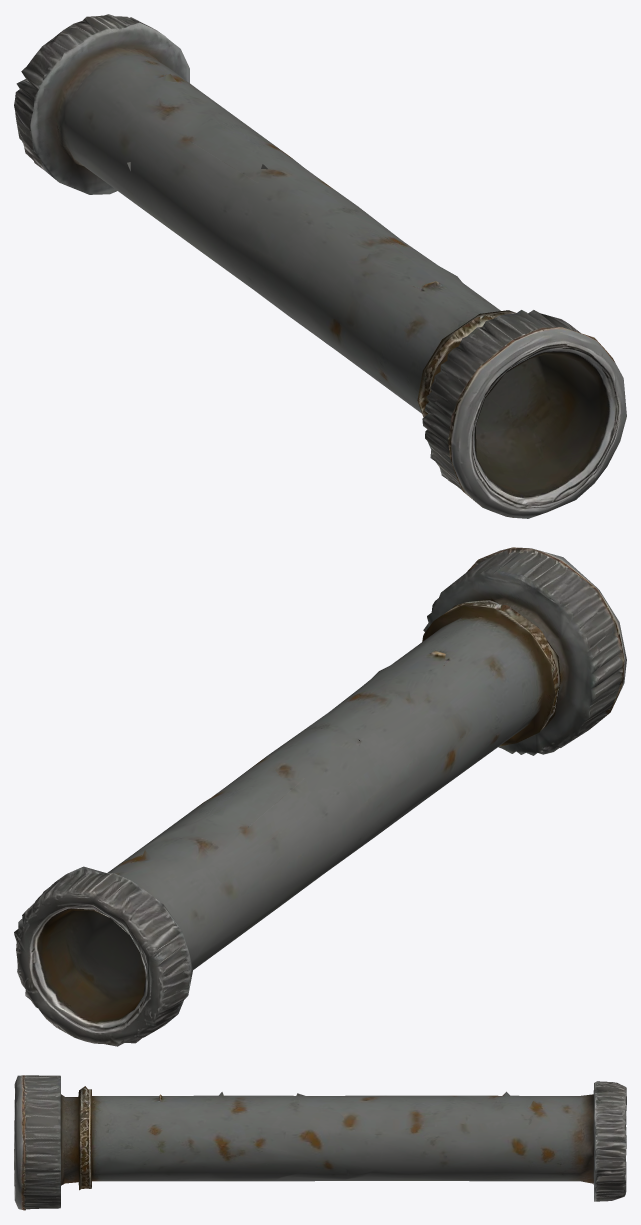
Rendered from metal_pipe.glb.
The picture shows the model from 3 angles, top to bottom: view 1: azimuth 30°, elevation 25°; view 2: azimuth 150°, elevation 25°; view 3: azimuth 270°, elevation 25°; orthographic projection. The views are drawn at different scales.
Parts seen in each view (by area): view 1: metal_pipe; view 2: metal_pipe; view 3: metal_pipe.
Part boxes in pixels (x1,y1,x2,y2): metal_pipe: (14,14,626,518); metal_pipe: (14,547,626,1046); metal_pipe: (14,1075,626,1210).
Size of the model in its own units: 0.0777 by 0.0785 by 0.35.
Materials: 1 (1 with a texture image).
